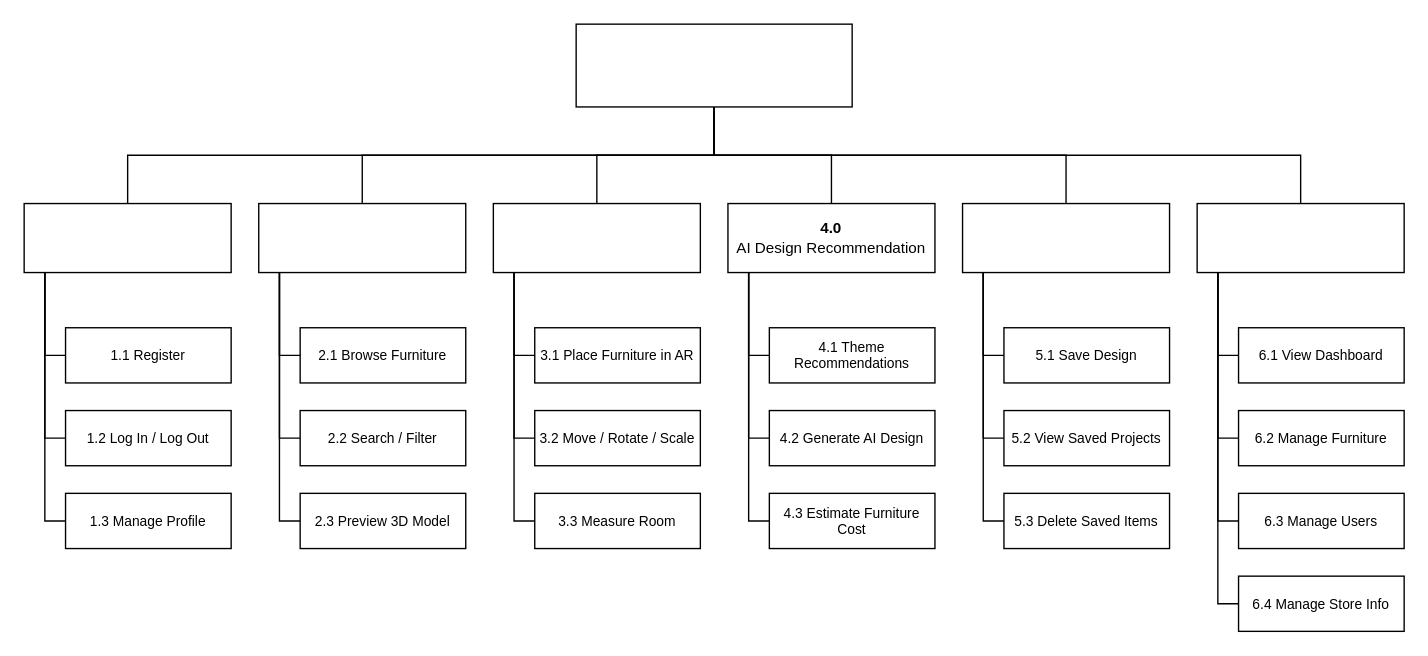
The diagram is 1428 pixels wide and 656 high, and some of its shapes have lost their labels. Here are the shapes that lost their labels. From the top down, the centre of each, then its label:
point (713, 65): 0.0 AR Interior Design App
point (127, 237): 1.0 Account Management
point (361, 237): 2.0 Furniture Catalog
point (596, 237): 3.0 AR Visualization
point (1065, 237): 5.0 Project Management
point (1300, 237): 6.0 Admin Management
